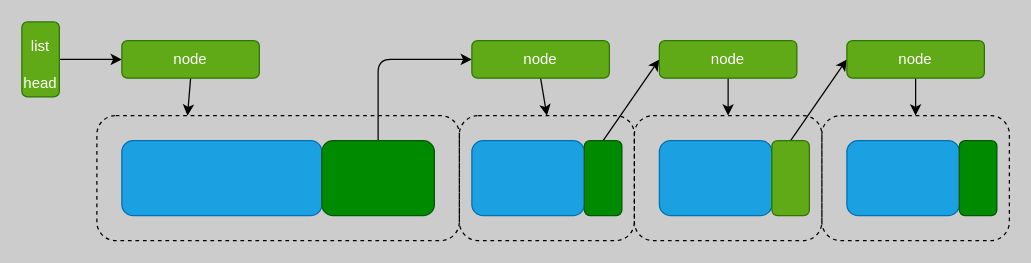
The diagram is 1031 pixels wide and 263 high, and some of its shapes have lost their labels. Each missing label, with the box of its shape:
data field: (121, 139, 322, 216)
NULL: (958, 139, 997, 216)
pointer field: (321, 139, 434, 216)
